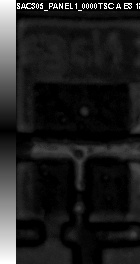led: (33, 83, 129, 213)
